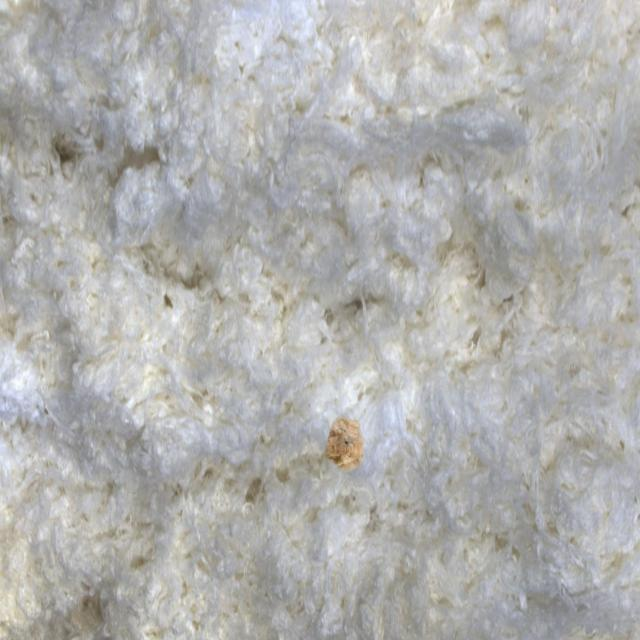dust: (299, 385, 391, 521)
